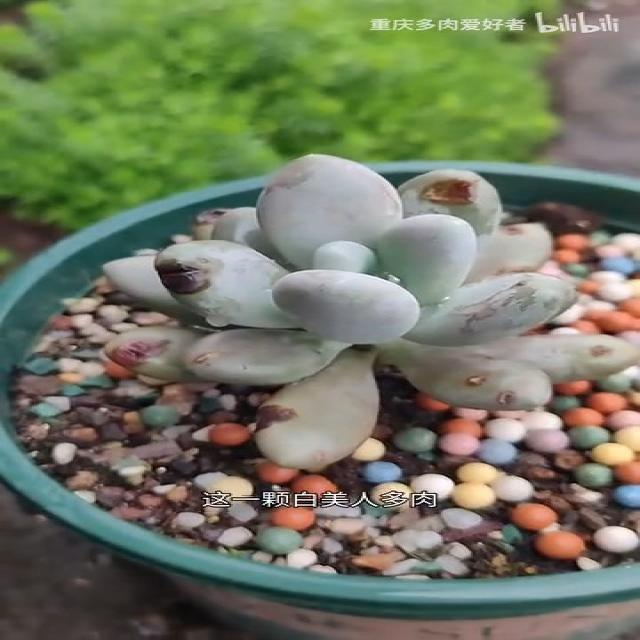-: (410, 178, 492, 208), (158, 260, 226, 296), (112, 344, 180, 370), (262, 398, 308, 432), (453, 370, 507, 386), (492, 392, 524, 412)
